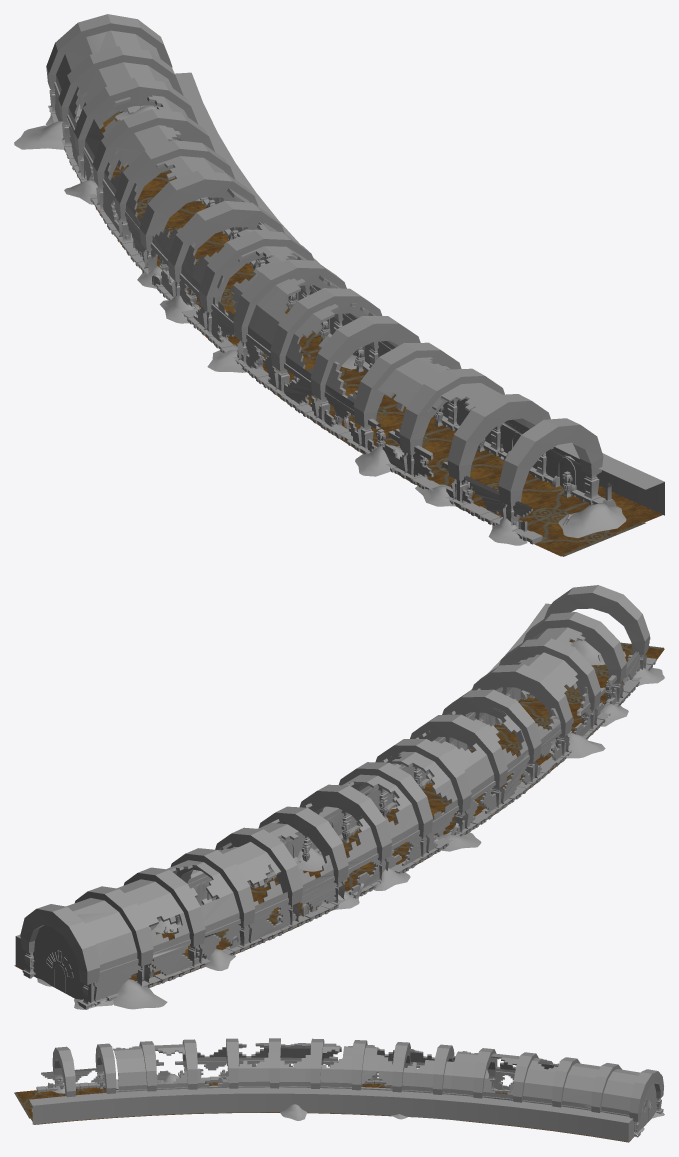
File: GQ04_HSSLYJ.FBX
3 views of the same model, one above another, from view 1: azimuth 30°, elevation 25°; view 2: azimuth 150°, elevation 25°; view 3: azimuth 270°, elevation 25° (orthographic). The views are drawn at different scales.
Parts seen in each view (by area): view 1: shadow, Frame_Stage4, Prop1Floor_Stage4, Prop1_Stage4_1, StoneWall_BR_StZge005, SandFloor1a_Y_Stage4, StoneWall_DKBR_Stage4, Prop2_Stage4; view 2: shadow, Frame_Stage4, StoneWall_BR_StZge005, Prop1_Stage4_1, SandFloor1a_Y_Stage4, Prop1Floor_Stage4, Prop2_Stage4, StoneWall_DKBR_Stage4; view 3: StoneWall_DKBR_Stage4, Frame_Stage4, shadow, Prop1Floor_Stage4, StoneWall_BR_StZge005, Prop1_Stage4_1, SandFloor1a_Y_Stage4.
Boxes of the visible parts, x1,y1,x2,y2 form: shadow: (46,14,603,506); Frame_Stage4: (54,30,529,469); Prop1Floor_Stage4: (76,111,662,556); Prop1_Stage4_1: (48,89,605,544); StoneWall_BR_StZge005: (52,90,586,524); SandFloor1a_Y_Stage4: (14,106,626,545); StoneWall_DKBR_Stage4: (175,72,664,515); Prop2_Stage4: (78,104,616,531); shadow: (20,585,649,984); Frame_Stage4: (66,627,616,976); StoneWall_BR_StZge005: (33,637,650,1006); Prop1_Stage4_1: (22,654,656,1009); SandFloor1a_Y_Stage4: (37,639,664,1009); Prop1Floor_Stage4: (14,640,664,988); Prop2_Stage4: (149,654,603,958); StoneWall_DKBR_Stage4: (15,603,550,969); StoneWall_DKBR_Stage4: (29,1087,634,1141); Frame_Stage4: (113,1043,639,1116); shadow: (52,1038,663,1121); Prop1Floor_Stage4: (14,1082,634,1142); StoneWall_BR_StZge005: (41,1063,656,1134); Prop1_Stage4_1: (36,1067,663,1137); SandFloor1a_Y_Stage4: (31,1073,664,1132).
Size of the model in its own units: 9417 by 3460 by 37369.
